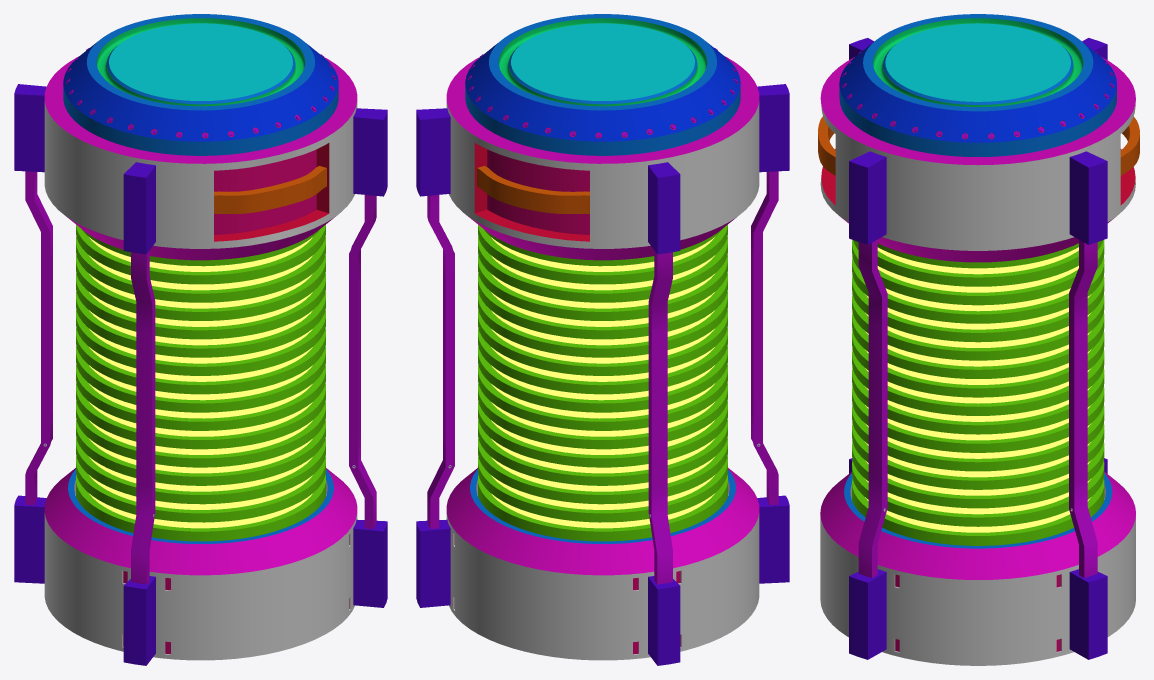
The model's file is Battery.fbx.
3 renders of one model, left to right at view 1: azimuth 30°, elevation 25°; view 2: azimuth 150°, elevation 25°; view 3: azimuth 270°, elevation 25°, orthographic.
Visible parts, largest first — view 1: Battery; view 2: Battery; view 3: Battery.
Part boxes in pixels (bbox=[...]): Battery: bbox=[14, 14, 387, 665]; Battery: bbox=[416, 14, 789, 665]; Battery: bbox=[818, 14, 1139, 665].
Size of the model in its own units: 200 by 375 by 204.
